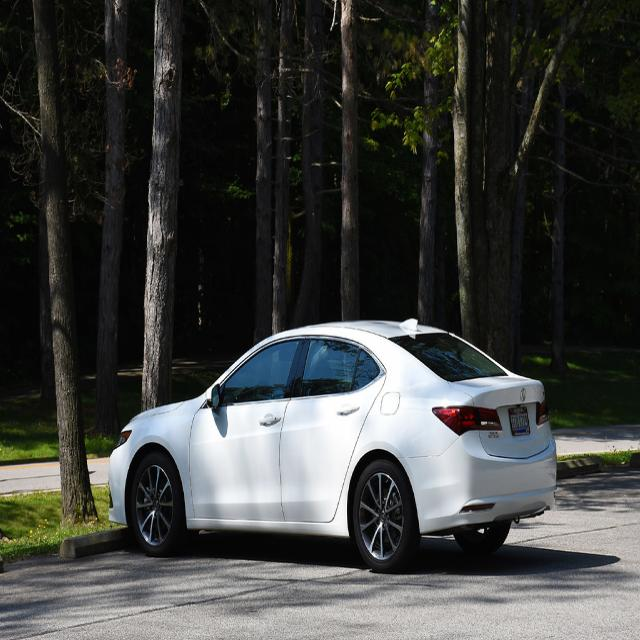car: (106, 319, 540, 573)
